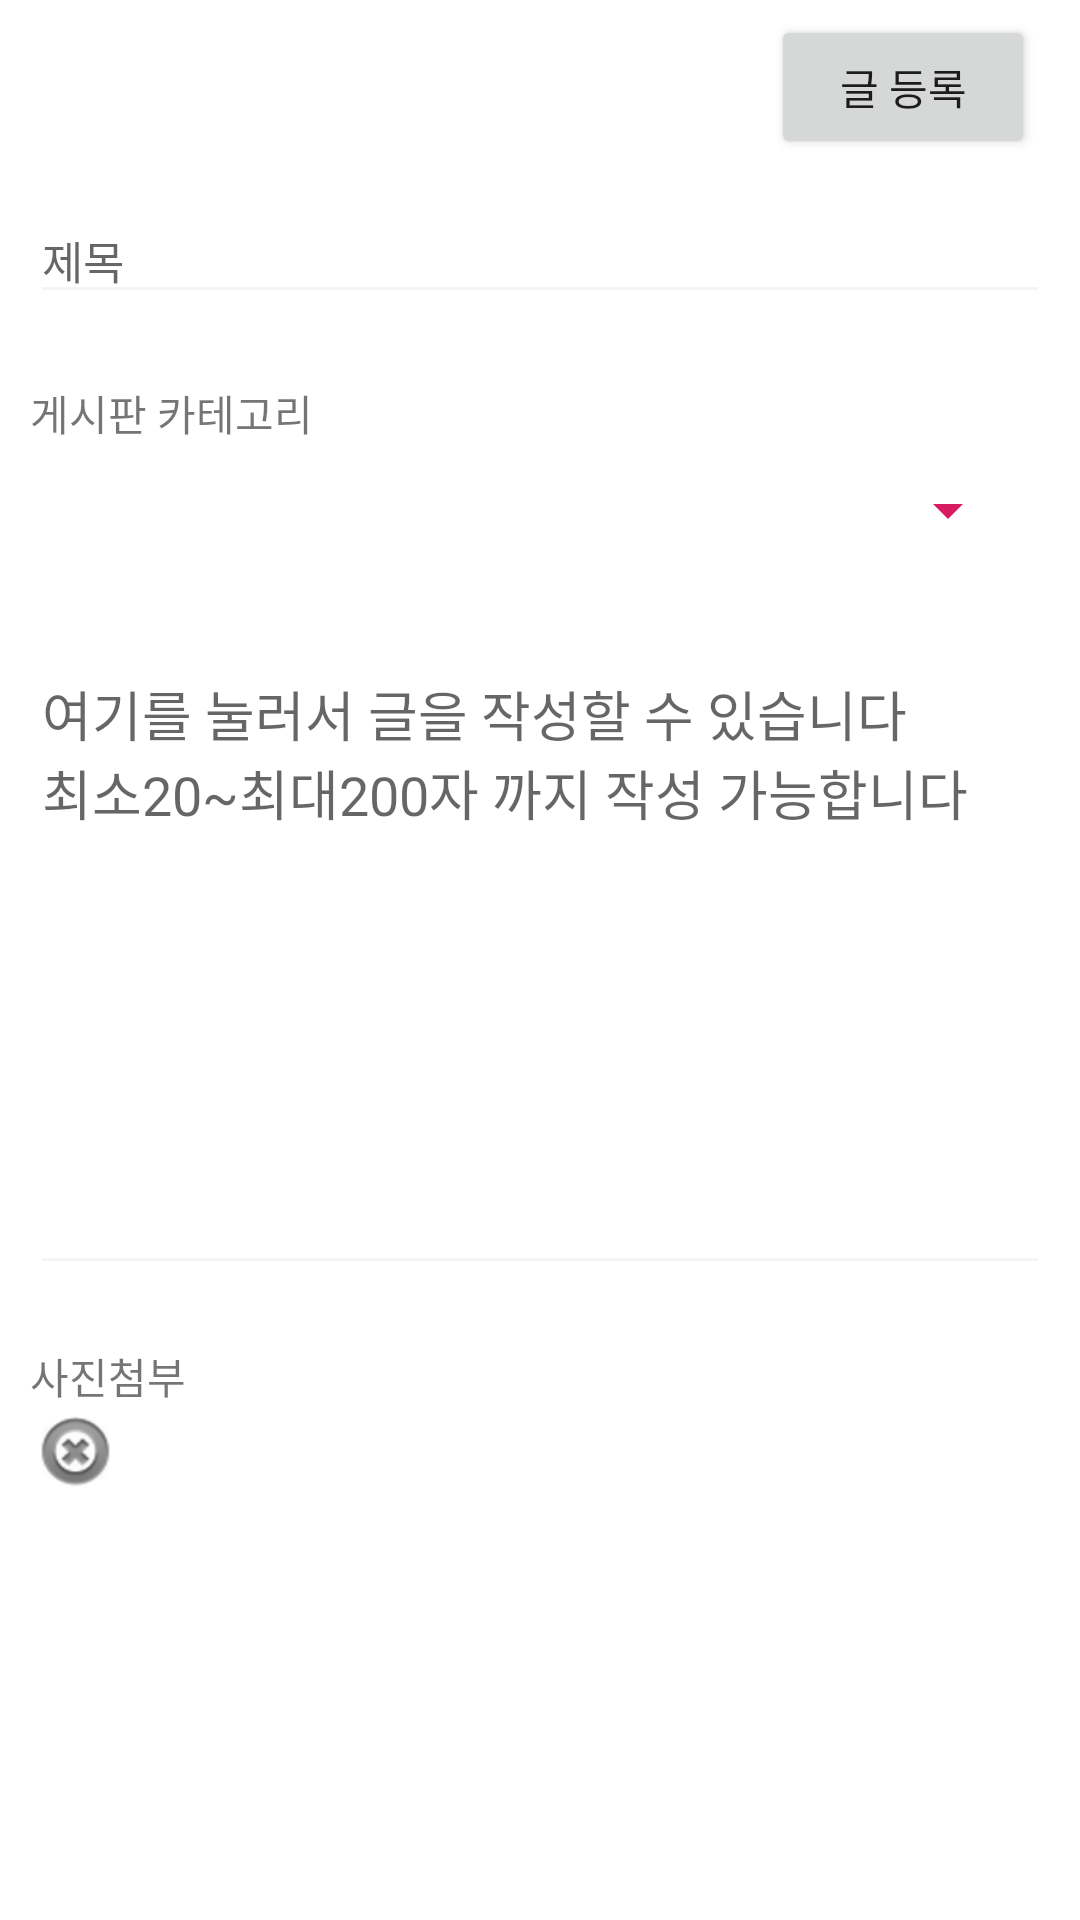

Named icons in this screenshot (1080 x 1920) and their centers, (x,y):
notification clear all: (75,1451)
